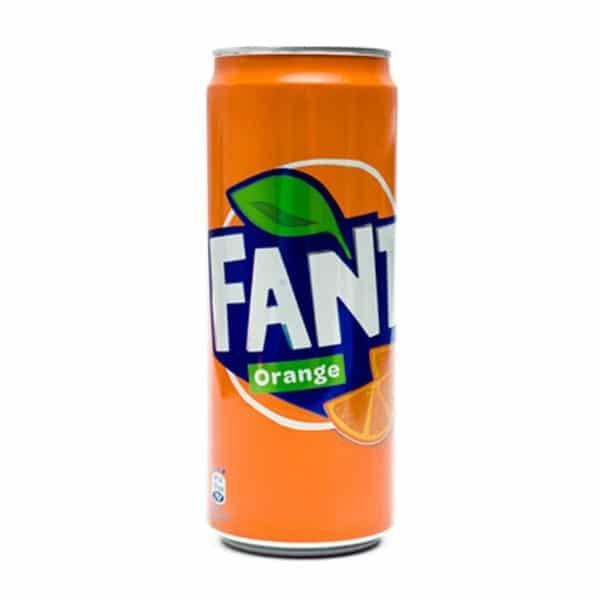metal: (208, 49, 397, 556)
